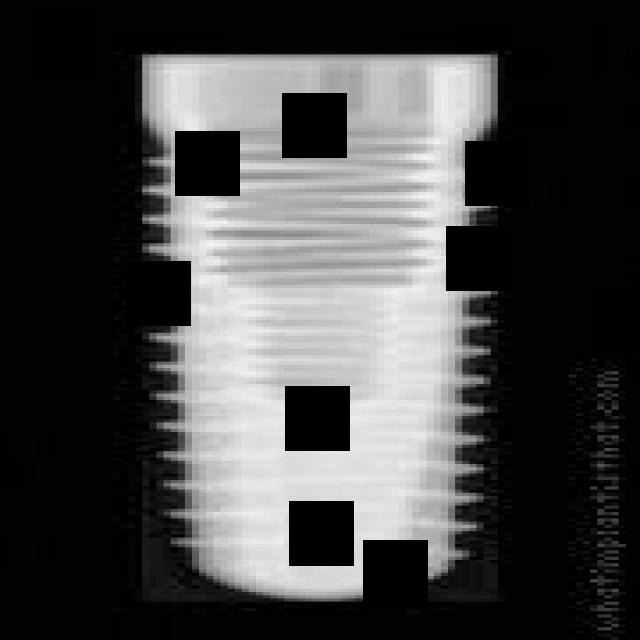Root canal obturation: (136, 54, 498, 603)
